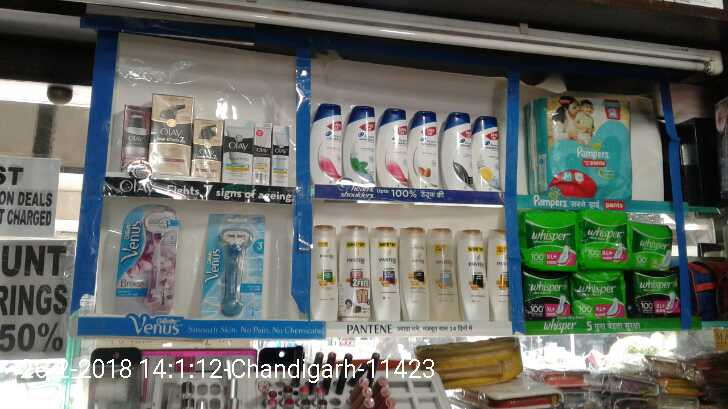venus: (199, 212, 266, 318), (121, 207, 173, 313)
